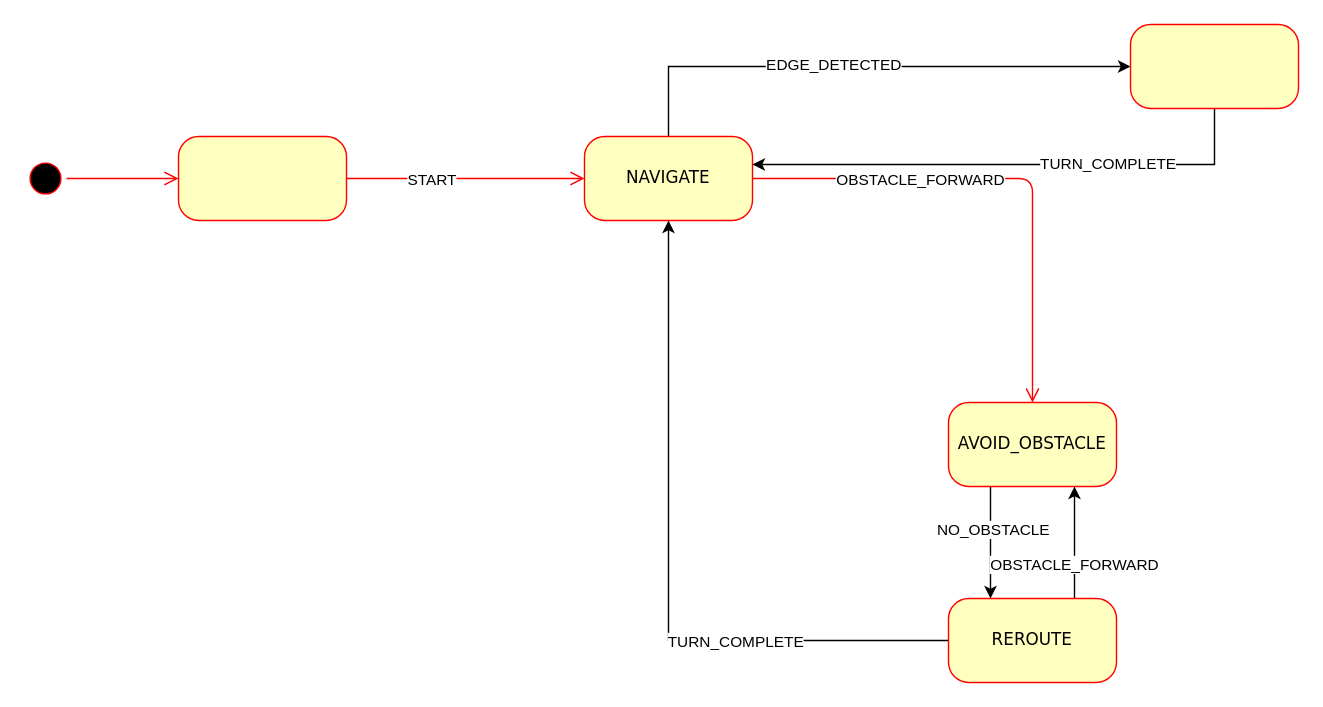
Some shapes in this 1323 by 707 pixel diagram are drawn without their labels. The shapes that lost their labels are listed below. From the top down, each one's centre as x and y in pixels, then its label:
pixel 1213 65: AT_EDGE
pixel 261 177: IDLE
